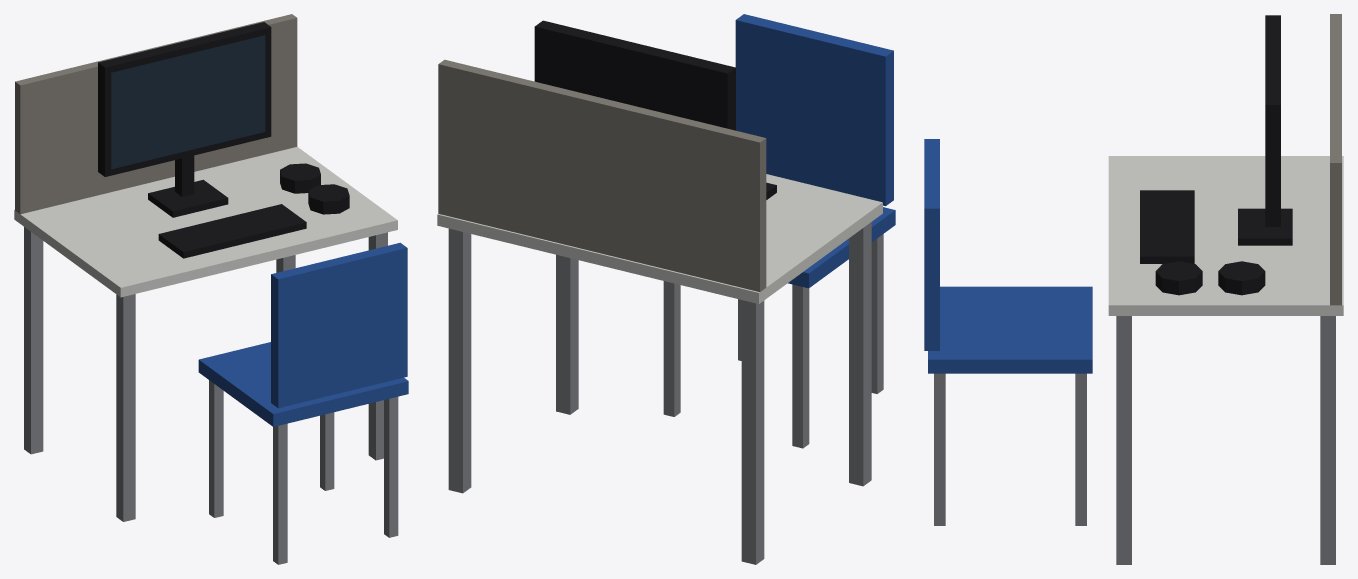
File: prop_test-desk.64cb4b9dd6bb.glb
The picture shows the model from 3 angles, left to right: view 1: azimuth 30°, elevation 25°; view 2: azimuth 150°, elevation 25°; view 3: azimuth 270°, elevation 25°; orthographic projection. The views are drawn at different scales.
Parts seen in each view (by area): view 1: body; view 2: body; view 3: body.
Part boxes in pixels (box(x1,y1,x2,y2)): body: box(14, 14, 408, 564); body: box(437, 14, 895, 564); body: box(924, 14, 1343, 564).
Bounding box in the file's own units: 0.9 × 1.22 × 1.07.
